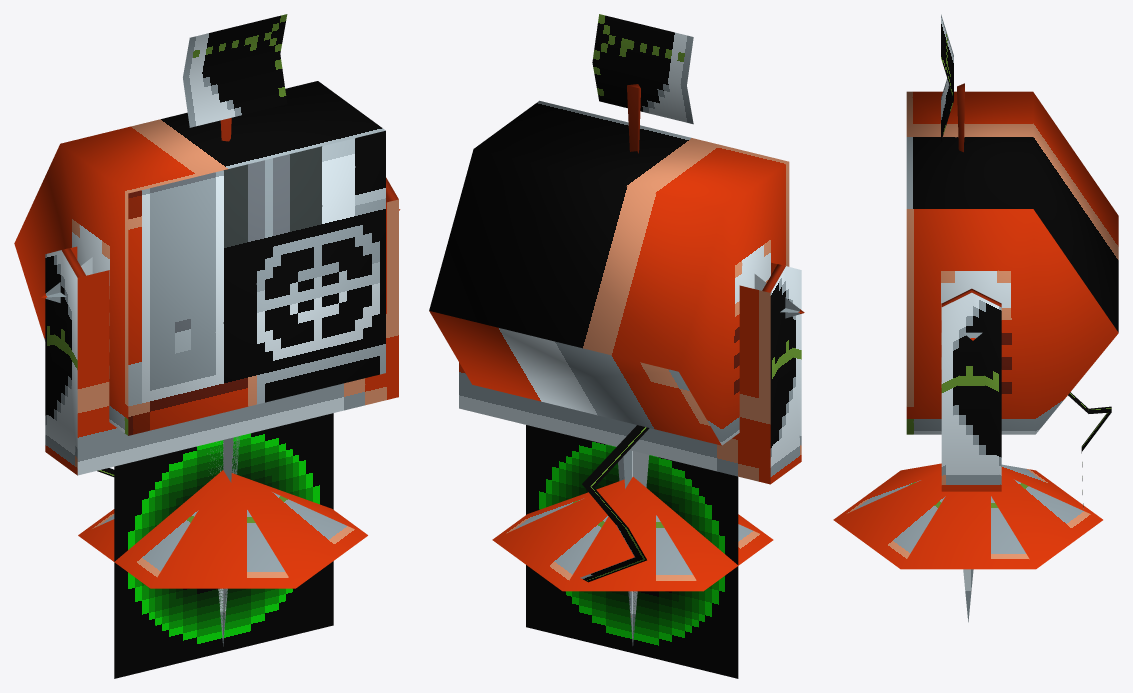
3 renders of one model, left to right at view 1: azimuth 30°, elevation 25°; view 2: azimuth 150°, elevation 25°; view 3: azimuth 270°, elevation 25°, orthographic. The views are drawn at different scales.
Visible parts, largest first — view 1: 3435kg_sh2_17; view 2: 3435kg_sh2_17; view 3: 3435kg_sh2_17.
Boxes of the visible parts, x1,y1,x2,y2 form: 3435kg_sh2_17: [14, 14, 400, 678]; 3435kg_sh2_17: [429, 14, 804, 678]; 3435kg_sh2_17: [833, 14, 1118, 622].
Size of the model in its own units: 0.7754 by 1.31 by 0.5725.
Materials: 3 (3 with a texture image).
